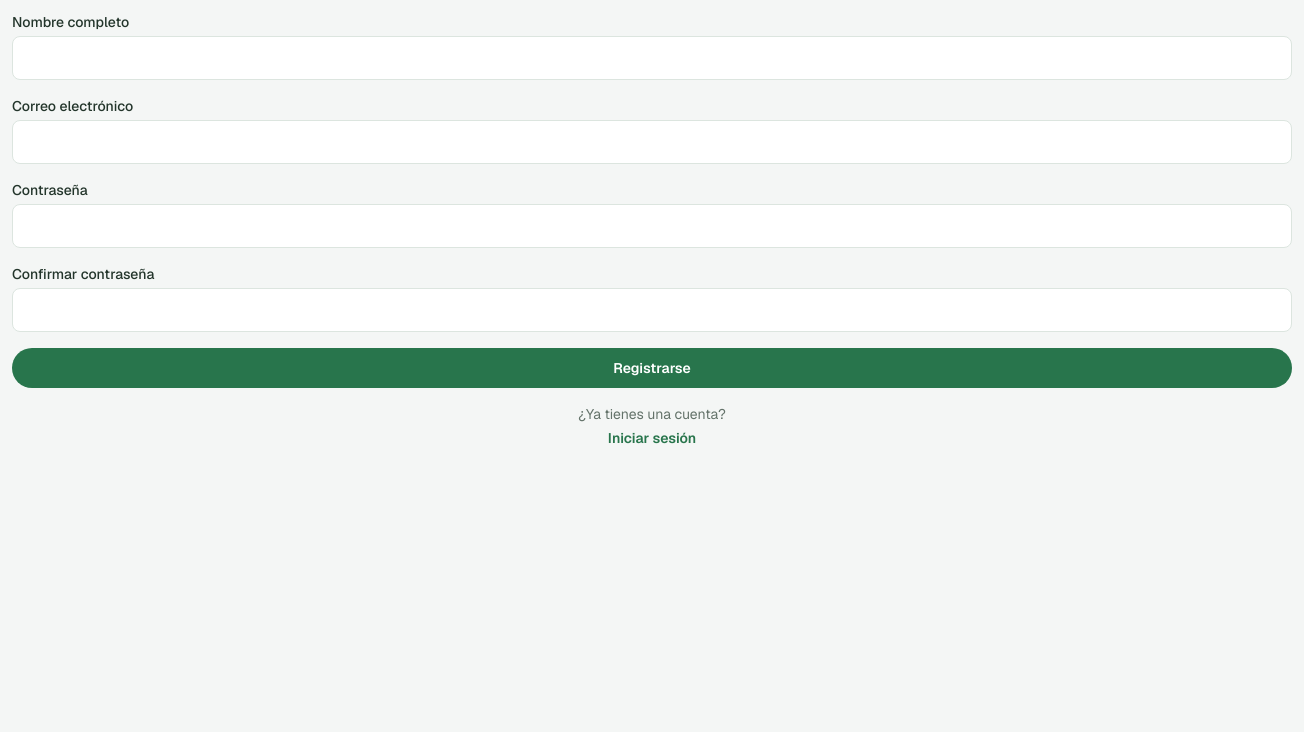
Test case: RegisterForm › shows every required field error when submitting an empty form
Click the button "Registrarse".
click(652, 368)  # box [12,348,1292,388]
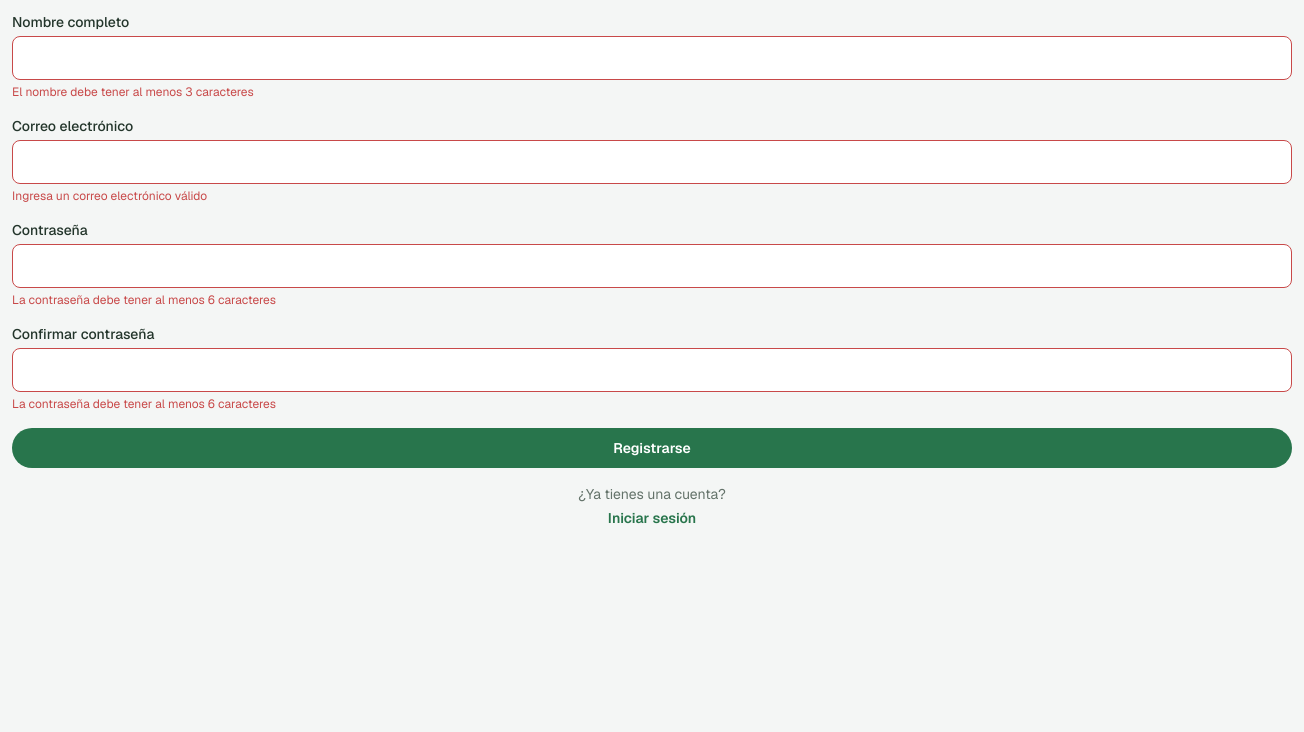
Check: the text "Ingresa un correo electrónico válido" is shown once, box [12,188,207,204]
Check: the text "El nombre debe tener al menos 3 caracteres" is shown, box [12,84,254,100]
Check: the text "La contraseña debe tener al menos 6 caracteres" is shown 2 times, box [12,292,276,308]; [12,396,276,412]
